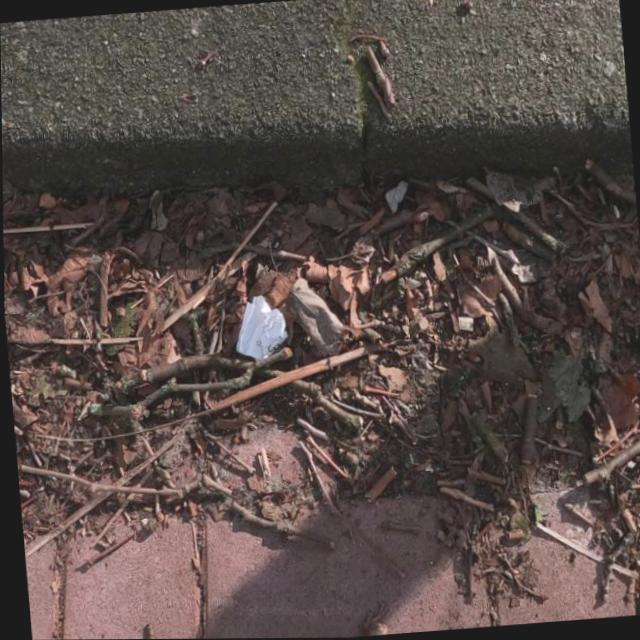Paper: (228, 289, 289, 364)
